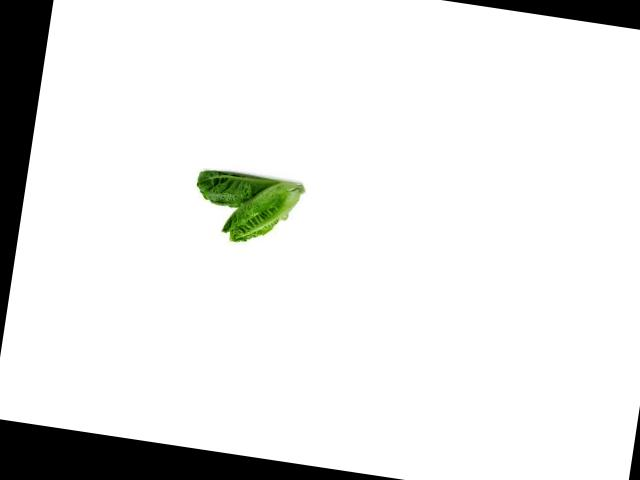lettuce: (187, 160, 284, 216)
